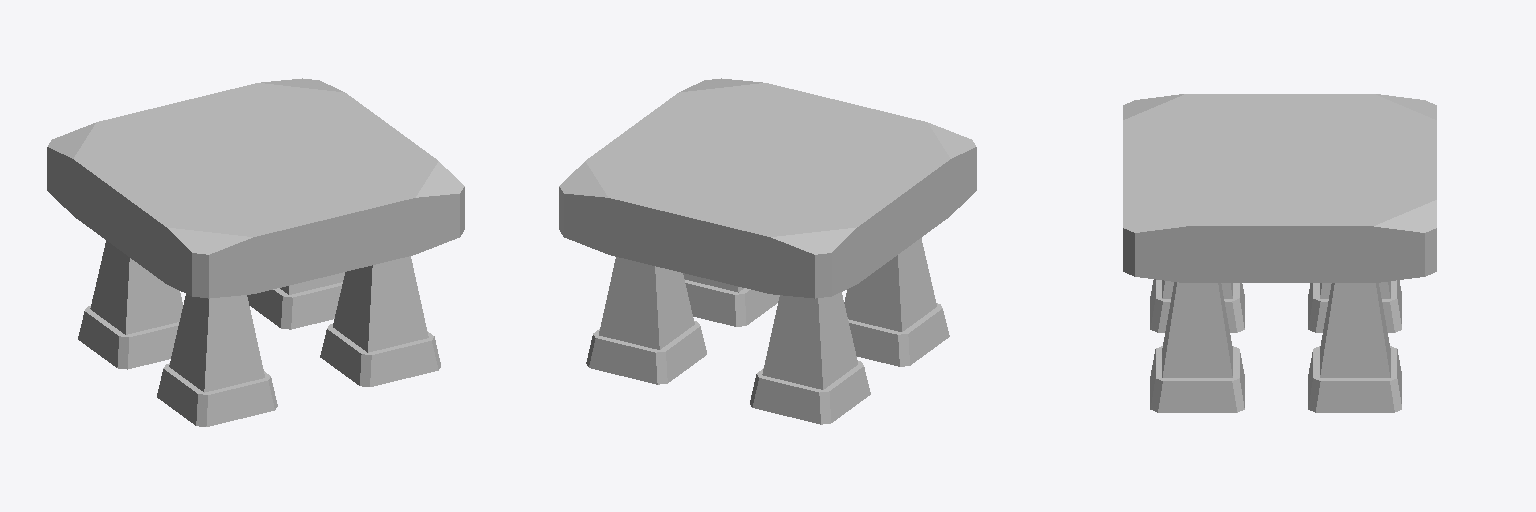
Rendered from silla.obj.
3 renders of one model, left to right at view 1: azimuth 30°, elevation 25°; view 2: azimuth 150°, elevation 25°; view 3: azimuth 270°, elevation 25°, orthographic.
Parts seen in each view (by area): view 1: Silla_1_Cube.001; view 2: Silla_1_Cube.001; view 3: Silla_1_Cube.001.
Boxes of the visible parts, x1,y1,x2,y2 form: Silla_1_Cube.001: [47, 78, 464, 426]; Silla_1_Cube.001: [559, 78, 976, 424]; Silla_1_Cube.001: [1123, 94, 1436, 412].
Size of the model in its own units: 0.9925 by 0.6686 by 0.9925.